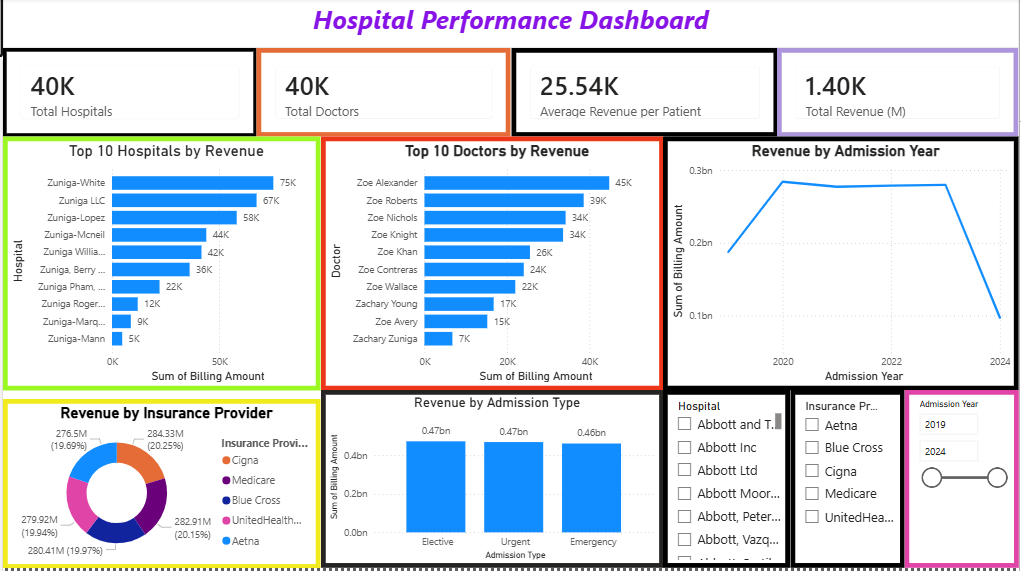

The dashboard page shown, as its layout file describes it:
{"tool":"powerbi","page":{"name":"Page 3","canvas":[1280,720],"ordinal":2},"visuals":[{"type":"textbox","box":[0,0,1280,64],"z":0},{"type":"cardVisual","fields":{"Data":["healthcare_cleaned.Total Hospitals"]},"box":[0,64,320,112],"z":1},{"type":"cardVisual","fields":{"Data":["healthcare_cleaned.Total Doctors"]},"box":[320,64,320,112],"z":2},{"type":"cardVisual","fields":{"Data":["healthcare_cleaned.Average Revenue per Patient"]},"box":[640,64,336,112],"z":3},{"type":"cardVisual","fields":{"Data":["healthcare_cleaned.Total Revenue (M)"]},"box":[976,64,304,112],"z":4},{"type":"clusteredBarChart","title":"Top 10  Hospitals by Revenue","fields":{"Category":["healthcare_cleaned.Hospital"],"Y":["Sum(healthcare_cleaned.Billing Amount)"]},"box":[0,176,400,320],"z":5},{"type":"clusteredBarChart","title":"Top 10 Doctors by Revenue","fields":{"Category":["healthcare_cleaned.Doctor"],"Y":["Sum(healthcare_cleaned.Billing Amount)"]},"box":[400,176,432,320],"z":6},{"type":"donutChart","title":"Revenue by Insurance Provider","fields":{"Category":["healthcare_cleaned.Insurance Provider"],"Y":["Sum(healthcare_cleaned.Billing Amount)"]},"box":[0,506,400,214],"z":7},{"type":"columnChart","title":"Revenue by Admission Type","fields":{"Category":["healthcare_cleaned.Admission Type"],"Y":["Sum(healthcare_cleaned.Billing Amount)"]},"box":[400,496,432,224],"z":8},{"type":"lineChart","title":"Revenue by Admission Year","fields":{"Category":["healthcare_cleaned.Admission Year"],"Y":["Sum(healthcare_cleaned.Billing Amount)"]},"box":[832,176,448,320],"z":9},{"type":"slicer","fields":{"Values":["healthcare_cleaned.Hospital"]},"box":[832,496,160,224],"z":10},{"type":"slicer","fields":{"Values":["healthcare_cleaned.Insurance Provider"]},"box":[992,496,144,224],"z":11},{"type":"slicer","fields":{"Values":["healthcare_cleaned.Admission Year"]},"box":[1136,496,144,224],"z":12}]}

Visuals, with their boxes in screenshot pixels (x1, y1, x2, y2), scaled from the page's 1280x720 canvas onto the 1021x571 screenshot:
textbox: region(0, 0, 1020, 51)
cardVisual - healthcare_cleaned.Total Hospitals: region(0, 51, 255, 140)
cardVisual - healthcare_cleaned.Total Doctors: region(255, 51, 510, 140)
cardVisual - healthcare_cleaned.Average Revenue per Patient: region(510, 51, 779, 140)
cardVisual - healthcare_cleaned.Total Revenue (M): region(779, 51, 1020, 140)
"Top 10  Hospitals by Revenue" clusteredBarChart: region(0, 140, 319, 393)
"Top 10 Doctors by Revenue" clusteredBarChart: region(319, 140, 664, 393)
"Revenue by Insurance Provider" donutChart: region(0, 401, 319, 570)
"Revenue by Admission Type" columnChart: region(319, 393, 664, 570)
"Revenue by Admission Year" lineChart: region(664, 140, 1020, 393)
slicer - healthcare_cleaned.Hospital: region(664, 393, 791, 570)
slicer - healthcare_cleaned.Insurance Provider: region(791, 393, 906, 570)
slicer - healthcare_cleaned.Admission Year: region(906, 393, 1020, 570)
